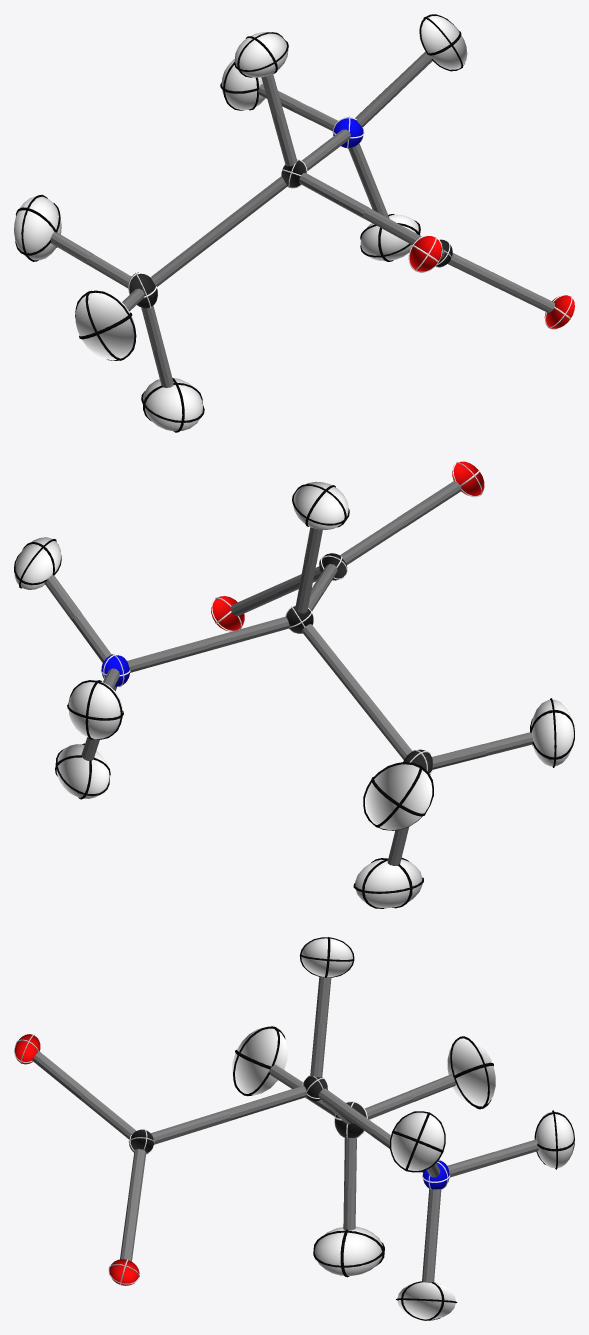
File: L-Ala.obj
3 renders of one model, top to bottom at view 1: azimuth 30°, elevation 25°; view 2: azimuth 150°, elevation 25°; view 3: azimuth 270°, elevation 25°, orthographic. The views are drawn at different scales.
Parts seen in each view (by area): view 1: H6, H7, H5, H4, H2, H1, H3, C1=C2, C2=C1, O2, C1=C3, C3=C1 (+14 smaller); view 2: H5, H7, H3, H6, H1, H4, H2, C1=N1, C1=C2, N1=C1, C2=C1, O2=C3 (+10 smaller); view 3: H6, H7, H2, H5, H1, H3, H4, C3=C1, C1=C3, C1=N1, O2=C3, C3=O2 (+16 smaller).
Boxes of the visible parts, box(x1,y1,x2,y2) form: H6: box(75, 290, 136, 360); H7: box(141, 378, 204, 432); H5: box(14, 194, 61, 261); H4: box(234, 32, 288, 77); H2: box(419, 14, 467, 71); H1: box(360, 214, 420, 261); H3: box(220, 59, 265, 110); C1=C2: box(215, 176, 287, 236); C2=C1: box(151, 227, 221, 286); O2: box(408, 235, 442, 272); C1=C3: box(299, 172, 369, 218); C3=C1: box(363, 208, 421, 244); H5: box(363, 762, 433, 830); H7: box(353, 857, 423, 908); H3: box(67, 680, 123, 739); H6: box(530, 698, 574, 767); H1: box(55, 743, 110, 799); H4: box(292, 481, 349, 529); H2: box(14, 537, 61, 589); C1=N1: box(206, 616, 289, 650); C1=C2: box(302, 624, 362, 696); N1=C1: box(127, 639, 209, 672); C2=C1: box(353, 689, 411, 759); O2=C3: box(397, 481, 461, 527); H6: box(231, 1026, 287, 1096); H7: box(313, 1226, 384, 1277); H2: box(389, 1111, 445, 1172); H5: box(447, 1036, 495, 1109); H1: box(396, 1281, 457, 1320); H3: box(534, 1110, 574, 1169); H4: box(299, 937, 354, 977); C3=C1: box(151, 1109, 230, 1144); C1=C3: box(227, 1085, 307, 1120); C1=N1: box(318, 1088, 377, 1135); O2=C3: box(32, 1051, 87, 1099); C3=O2: box(80, 1091, 135, 1139).
Bounding box in the file's own units: 4.24 × 3.36 × 4.6.
